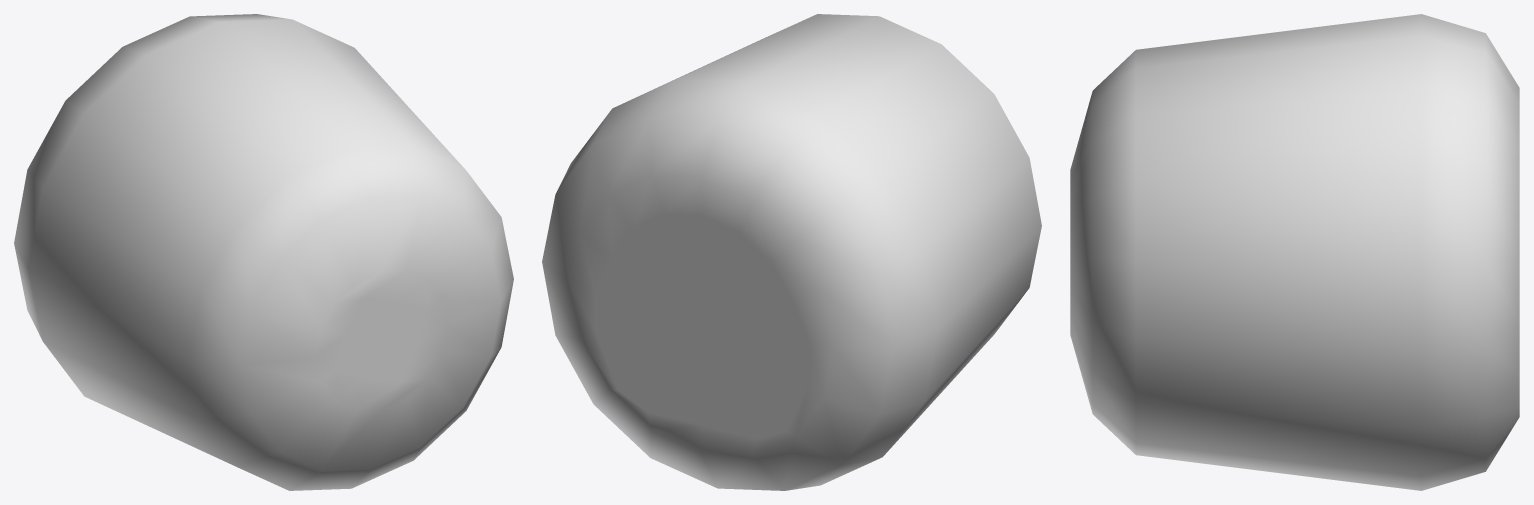
Rendered from SM_BodyExplosive.fbx.
The picture shows the model from 3 angles, left to right: view 1: azimuth 30°, elevation 25°; view 2: azimuth 150°, elevation 25°; view 3: azimuth 270°, elevation 25°; orthographic projection. The views are drawn at different scales.
Parts seen in each view (by area): view 1: BodyExplosive; view 2: BodyExplosive; view 3: BodyExplosive.
Part boxes in pixels (<box>): BodyExplosive: <box>14,14,513,490</box>; BodyExplosive: <box>542,14,1041,490</box>; BodyExplosive: <box>1070,14,1519,490</box>.
Bounding box in the file's own units: 2.11 × 2.11 × 1.99.
Materials: 1 (1 with a texture image).
